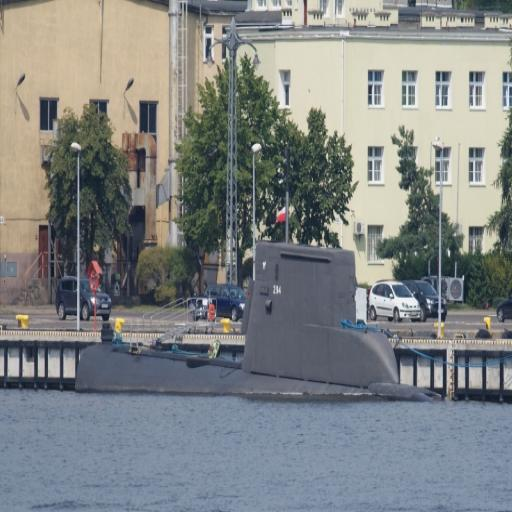submarine: (74, 232, 435, 402)
